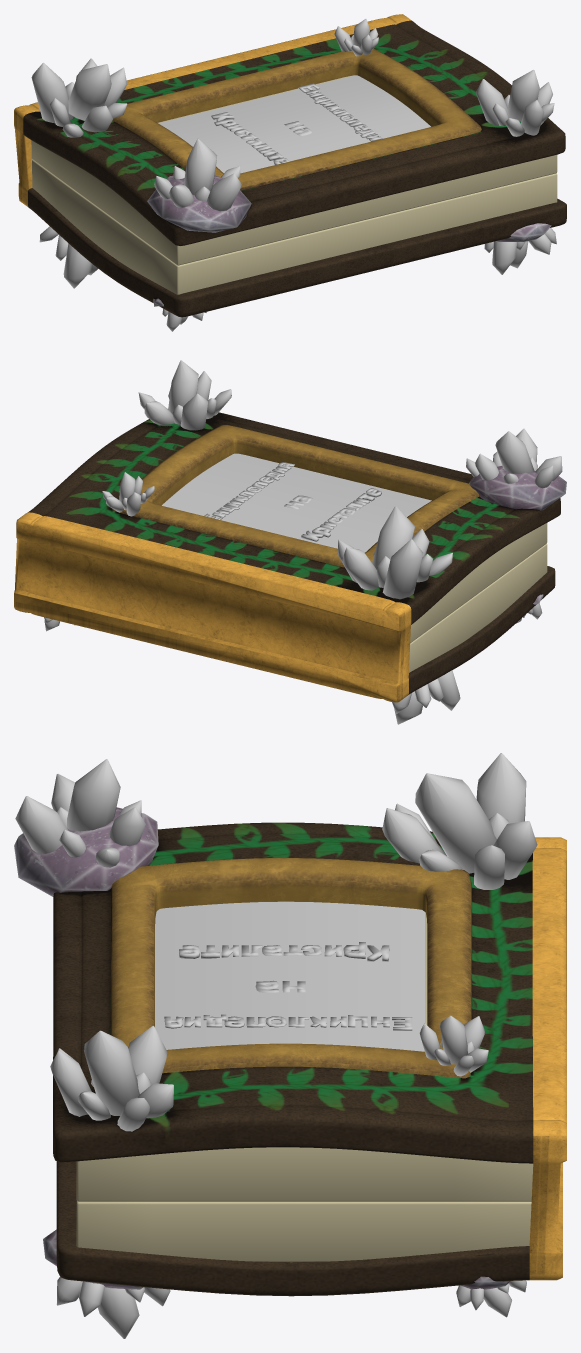
The model's file is enciklopedia.fbx.
3 views of the same model, one above another, from view 1: azimuth 30°, elevation 25°; view 2: azimuth 150°, elevation 25°; view 3: azimuth 270°, elevation 25° (orthographic). The views are drawn at different scales.
Visible parts, largest first — view 1: Book; view 2: Book; view 3: Book.
Part boxes in pixels (x1,y1,x2,y2): Book: [14, 14, 566, 331]; Book: [14, 360, 566, 724]; Book: [14, 753, 566, 1338].
Size of the model in its own units: 47.65 by 24.11 by 35.7.
